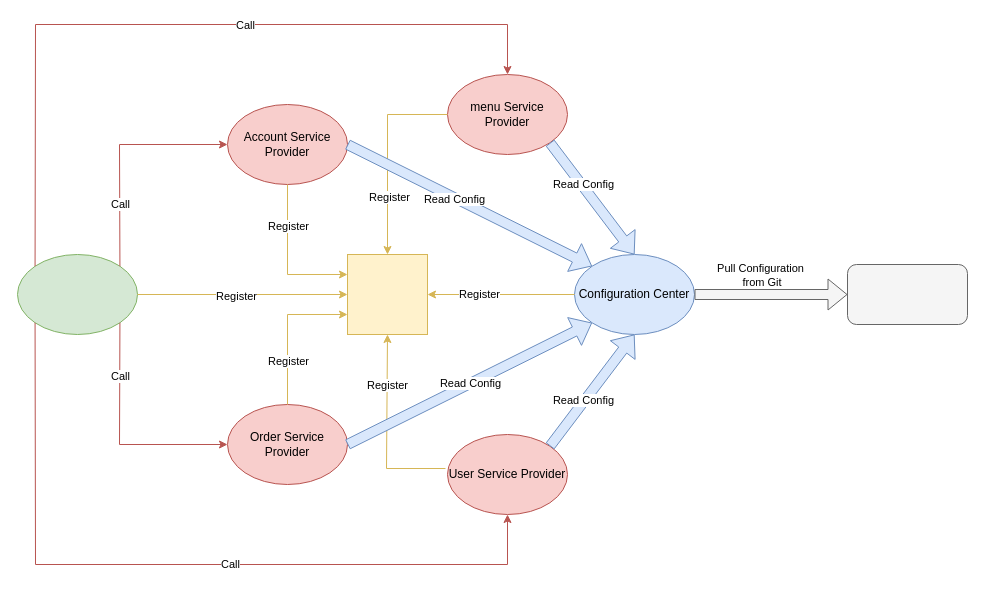
The diagram is 985 pixels wide and 590 high, and some of its shapes have lost their labels. Each missing label, with the centre of its shape:
"Git Repository" belongs at [907,294].
"Service Consumer" belongs at [77,294].
"Service Registry" belongs at [387,294].
